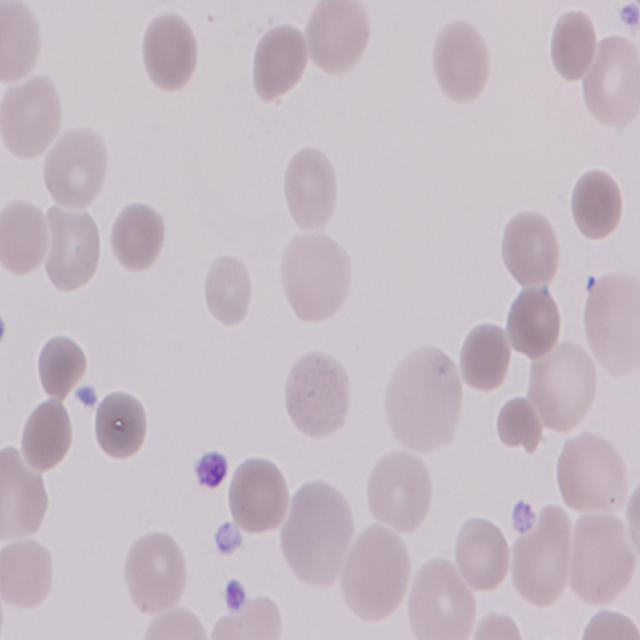Platelets: (194, 452, 227, 494), (76, 384, 102, 414)
RBC: (385, 346, 468, 458), (279, 479, 355, 592), (278, 226, 356, 324), (342, 522, 415, 626), (279, 346, 354, 442), (524, 342, 596, 434), (366, 444, 438, 534), (122, 528, 191, 620), (507, 510, 572, 607), (552, 430, 626, 515), (41, 121, 110, 209), (1, 70, 67, 160), (280, 142, 342, 232), (411, 553, 475, 640), (582, 34, 639, 130), (431, 17, 493, 102), (41, 207, 102, 293), (224, 454, 290, 532), (250, 19, 312, 102), (497, 210, 563, 286), (138, 11, 199, 92), (306, 1, 370, 78), (452, 514, 513, 592), (0, 531, 55, 616), (108, 200, 166, 276), (506, 282, 564, 358), (548, 4, 602, 84), (200, 248, 256, 324), (1, 452, 49, 540), (0, 198, 49, 278), (0, 0, 42, 89), (134, 608, 208, 640), (572, 610, 638, 640), (468, 611, 531, 640)
Spherocyte: (567, 165, 627, 244), (18, 394, 78, 472), (89, 387, 150, 462), (458, 320, 514, 395), (37, 334, 86, 402)
